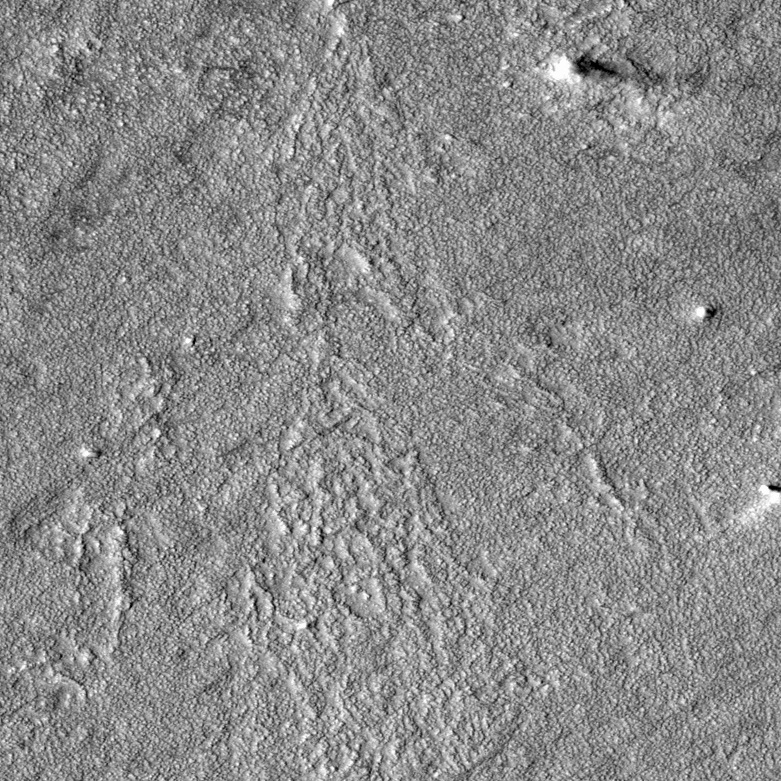dust_devil: (541, 49, 667, 95)
